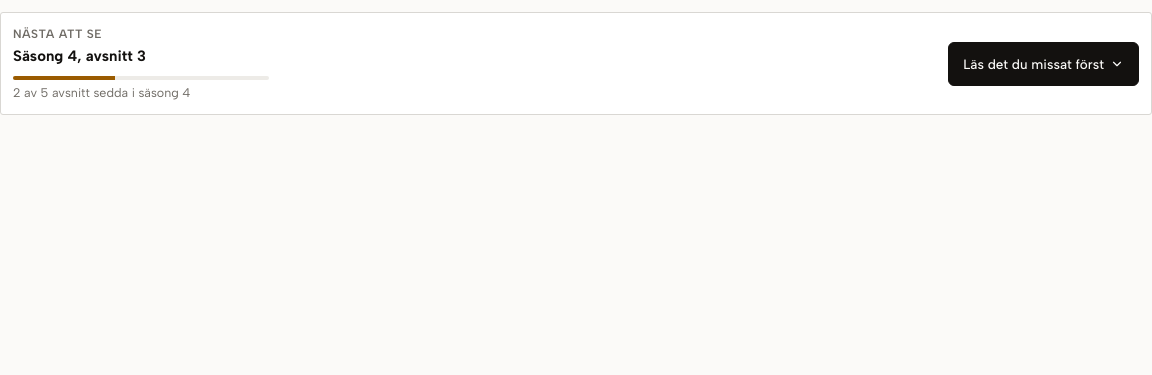
Test: RecapPanel timeline › shows the boundary "Du är här" node and its story-so-far as soon as the panel opens
What coordinates should you click on to do the following:
click the button "Läs det du missat först"
I would click on:
 (1044, 64)
Its box is [948, 42, 1139, 86].
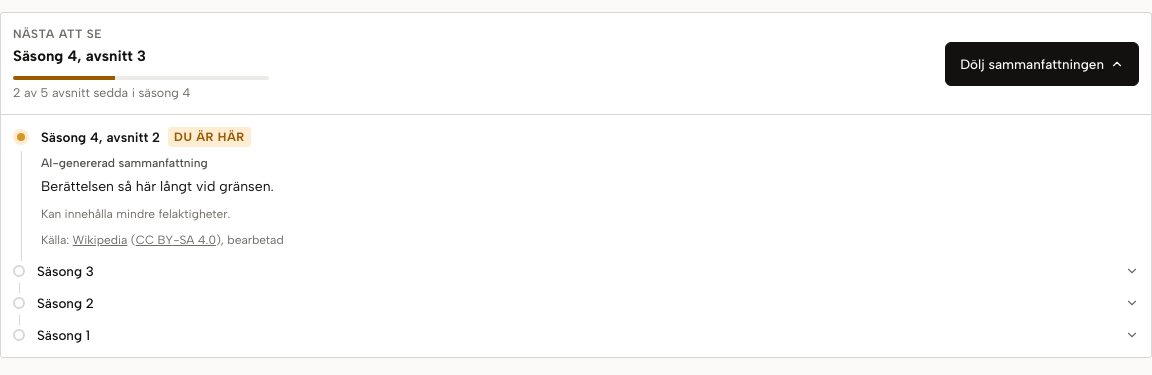
Check: the text "Du är här" is shown, box [168, 127, 251, 147]
Check: the text "Säsong 4, avsnitt 2" is shown, box [41, 127, 160, 148]
Check: the text "Berättelsen så här långt vid gränsen." is shown, box [41, 178, 274, 194]
